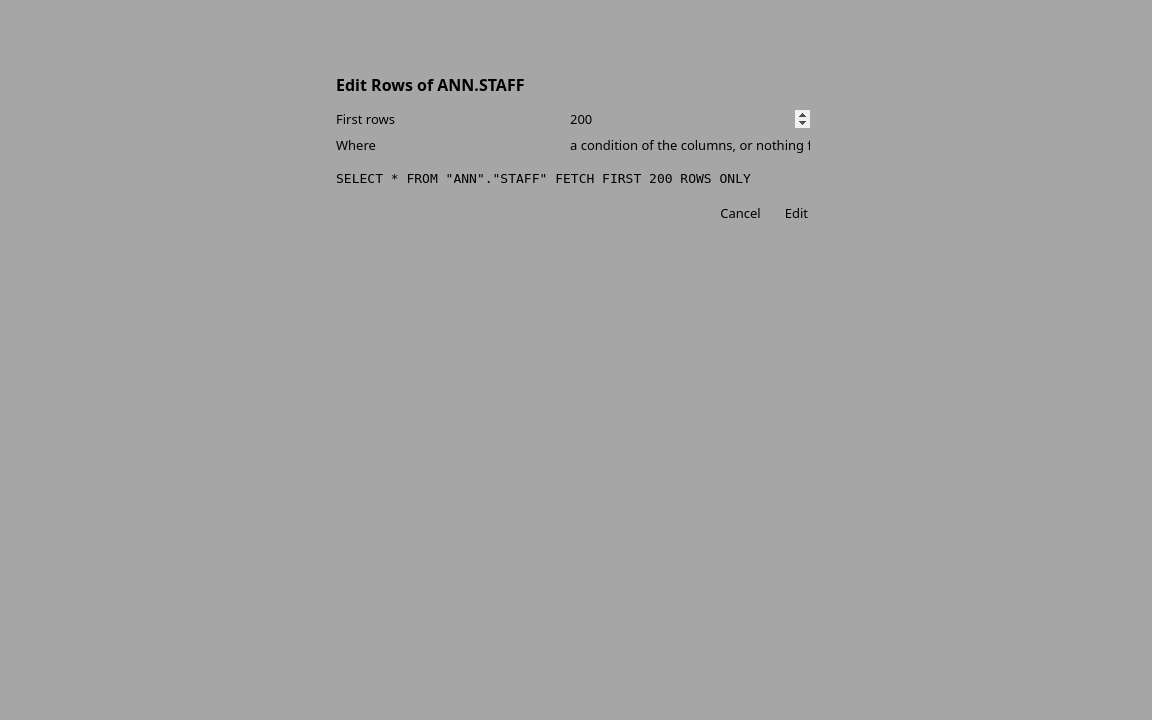
a table's actions › opens a table's first rows, or those a condition keeps, in a worksheet to be edited [DESIGN] D42
Later steps or results of the test are not shown.
Replace the text in the number field labelled "First rows" with "50" at (690, 119), box [564,108,816,130]
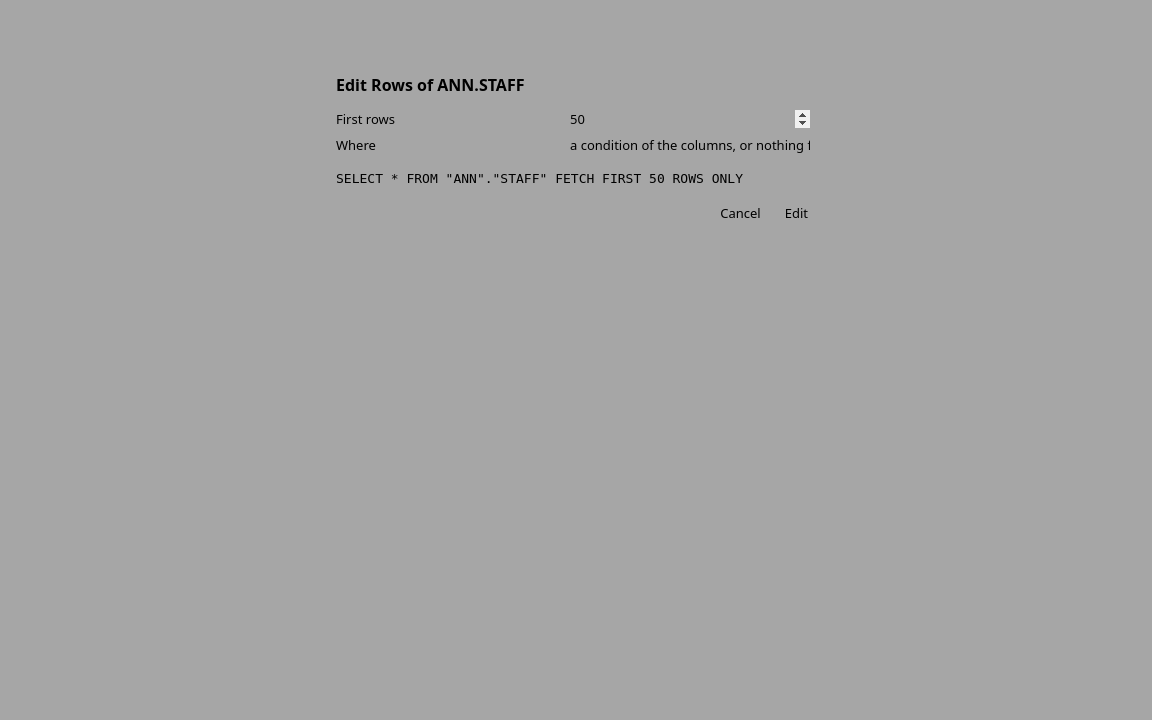
Type "ID > 1" into the field labelled "Where" at (690, 145), box [564,134,816,156]
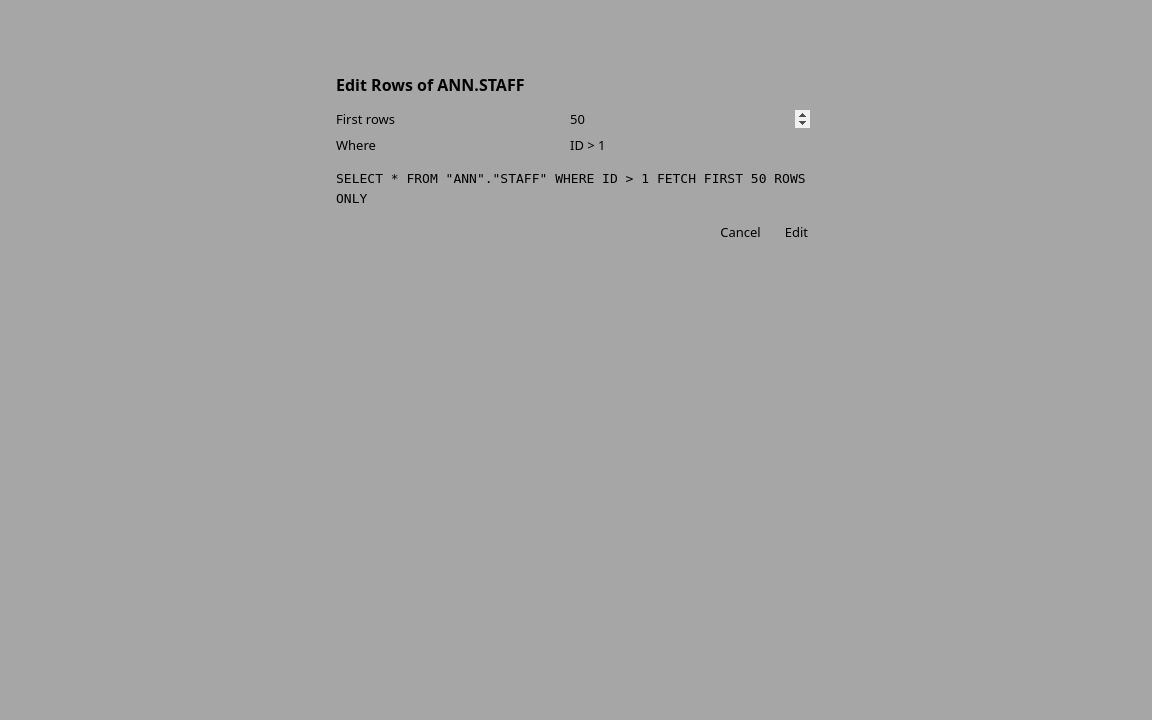
Check: the text "SELECT * FROM \"ANN\".\"STAFF\" WHERE ID > 1 FETCH FIRST 50 ROWS ONLY" is shown, box [336,171,806,206]
